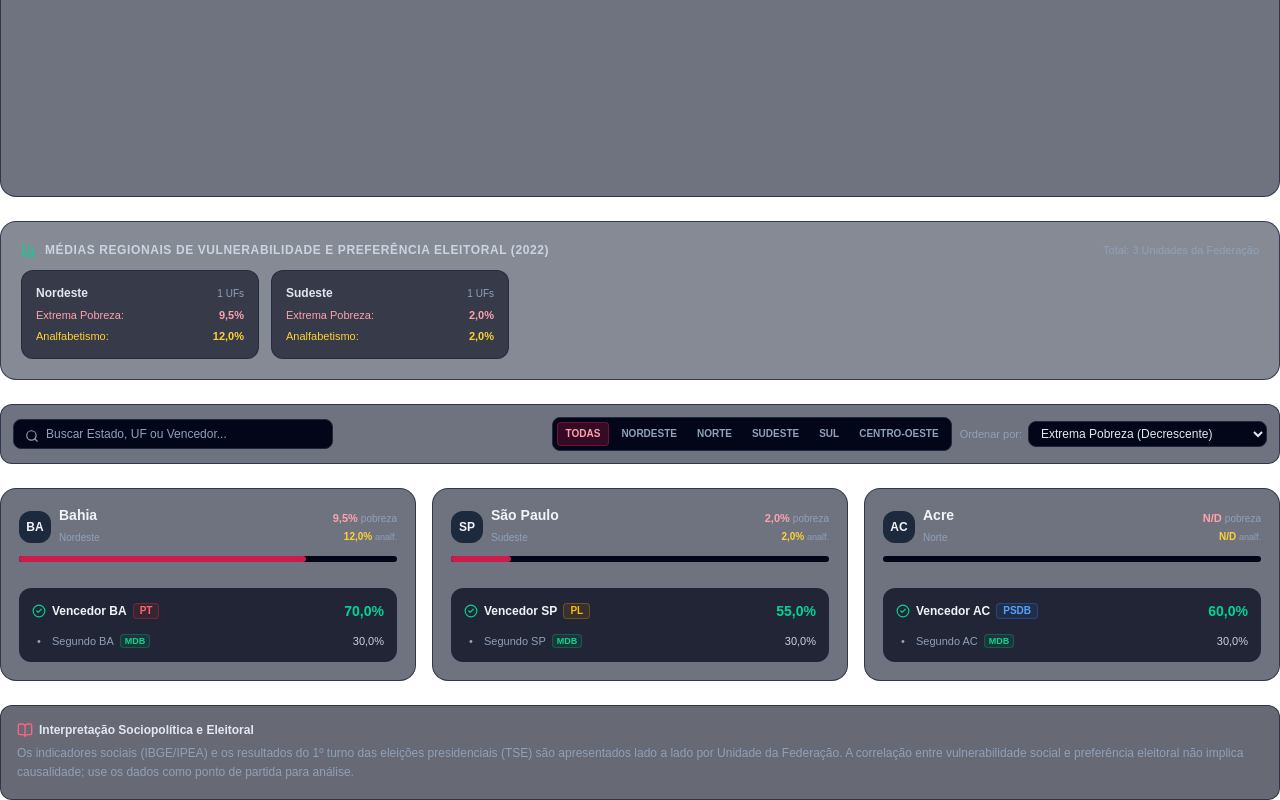
DeepBrazilPanel › filtra por região (botão e card regional) e por texto
This screenshot has width=1280, height=800.
(page scrolled)
Expected: the heading "Bahia" is shown, x1=59 y1=507 x2=100 y2=524
Click the button "SUDESTE" at (776, 434), box x1=744 y1=423 x2=807 y2=445
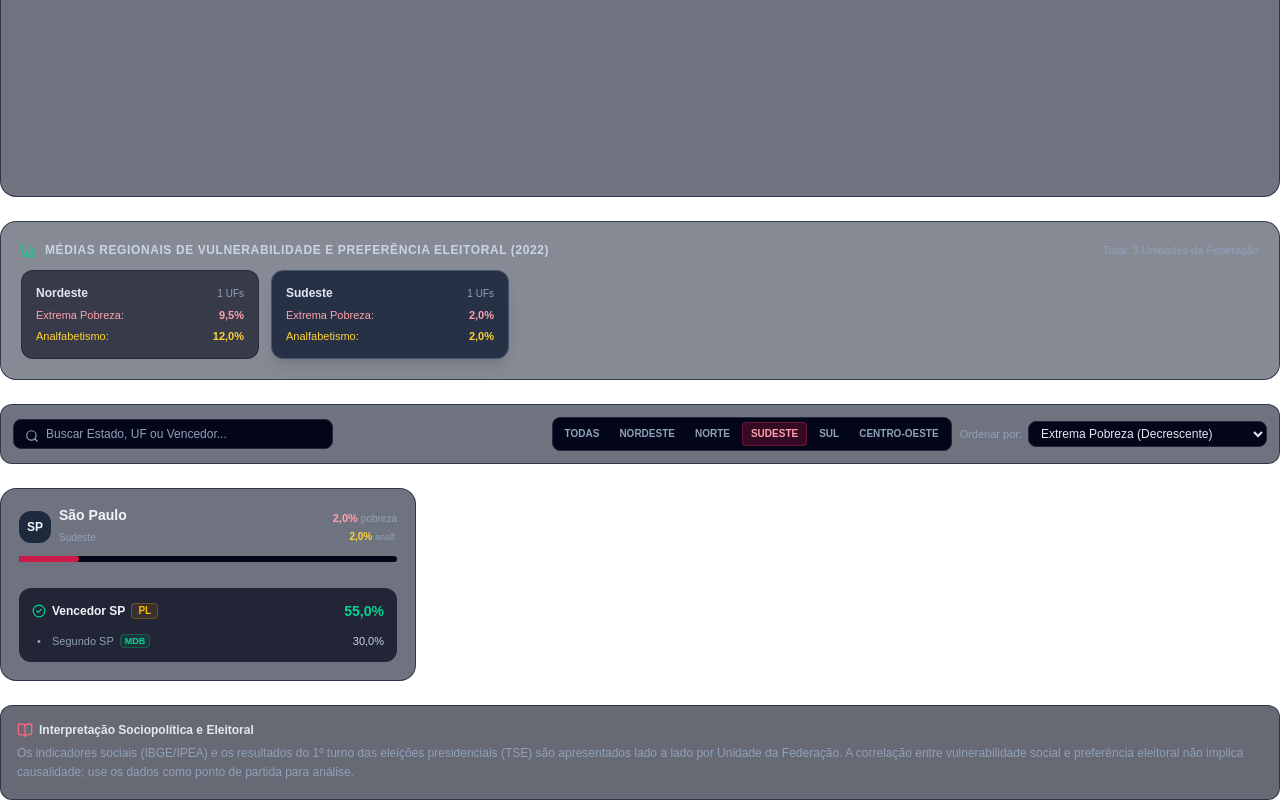
Expected: the button "SUDESTE" is pressed, x1=742 y1=422 x2=807 y2=446
Note: card regional alterna o filtro
Click the button "Nordeste 1 UFs Extrema Pobreza: 9,5% Analfabetismo: 12,0%" at (140, 315), box x1=21 y1=270 x2=259 y2=359
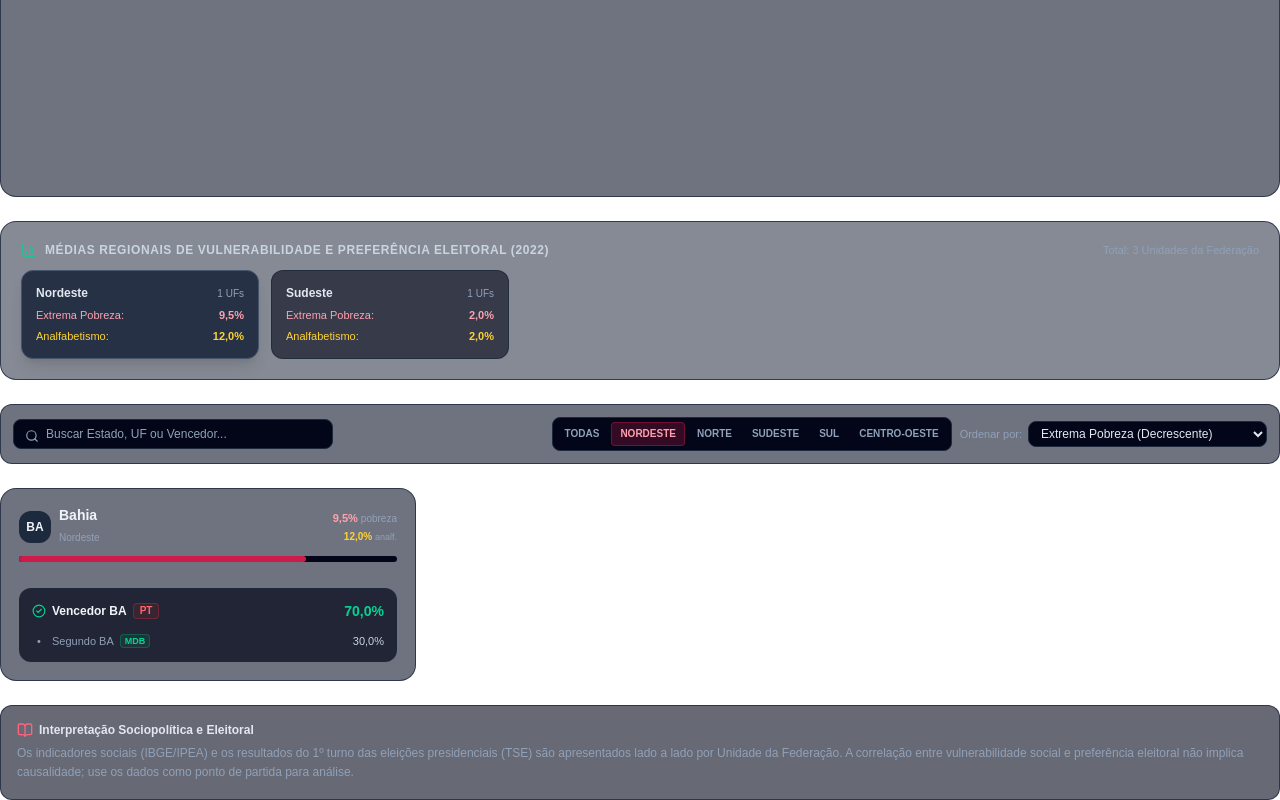
Click the button "Nordeste 1 UFs Extrema Pobreza: 9,5% Analfabetismo: 12,0%" at (140, 315), box x1=21 y1=270 x2=259 y2=359
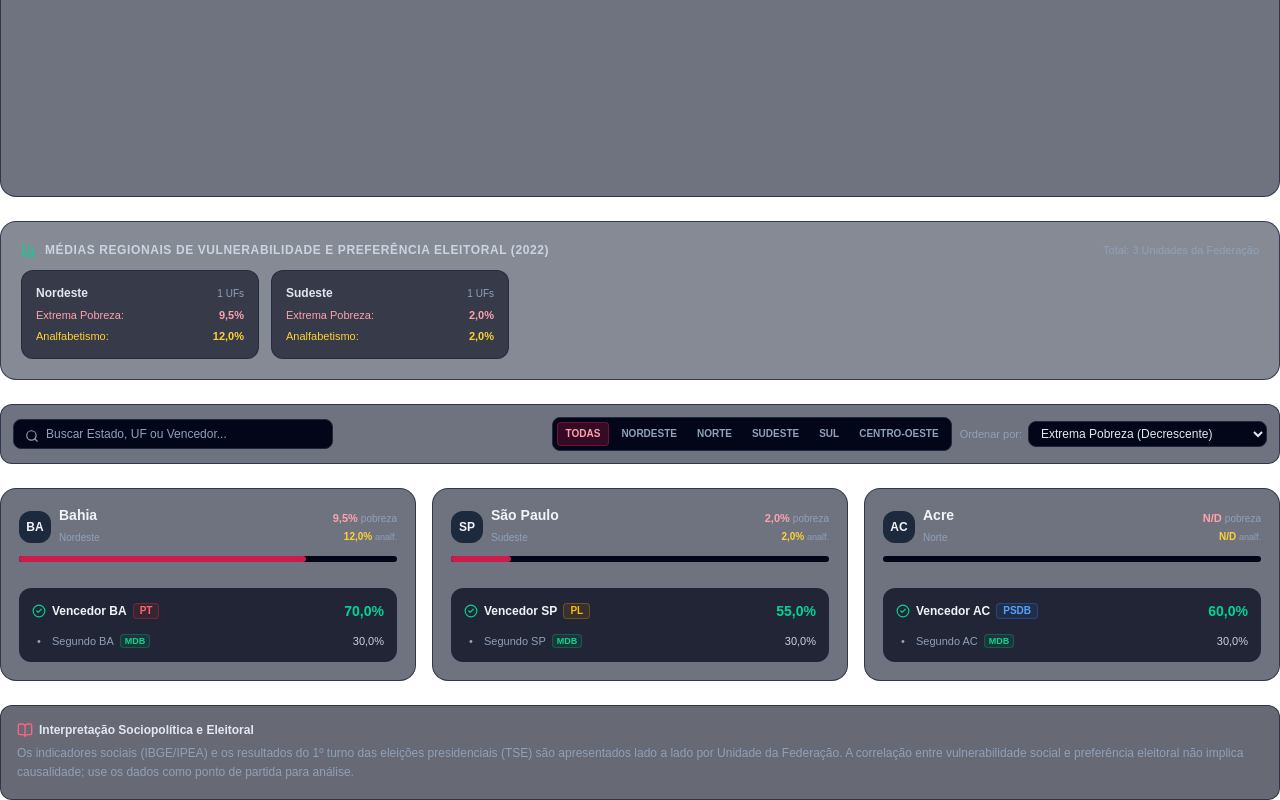
Type "vencedor ac" into the field labelled "Buscar Estado, UF ou Vencedor..." at (173, 434), box x1=13 y1=419 x2=333 y2=449
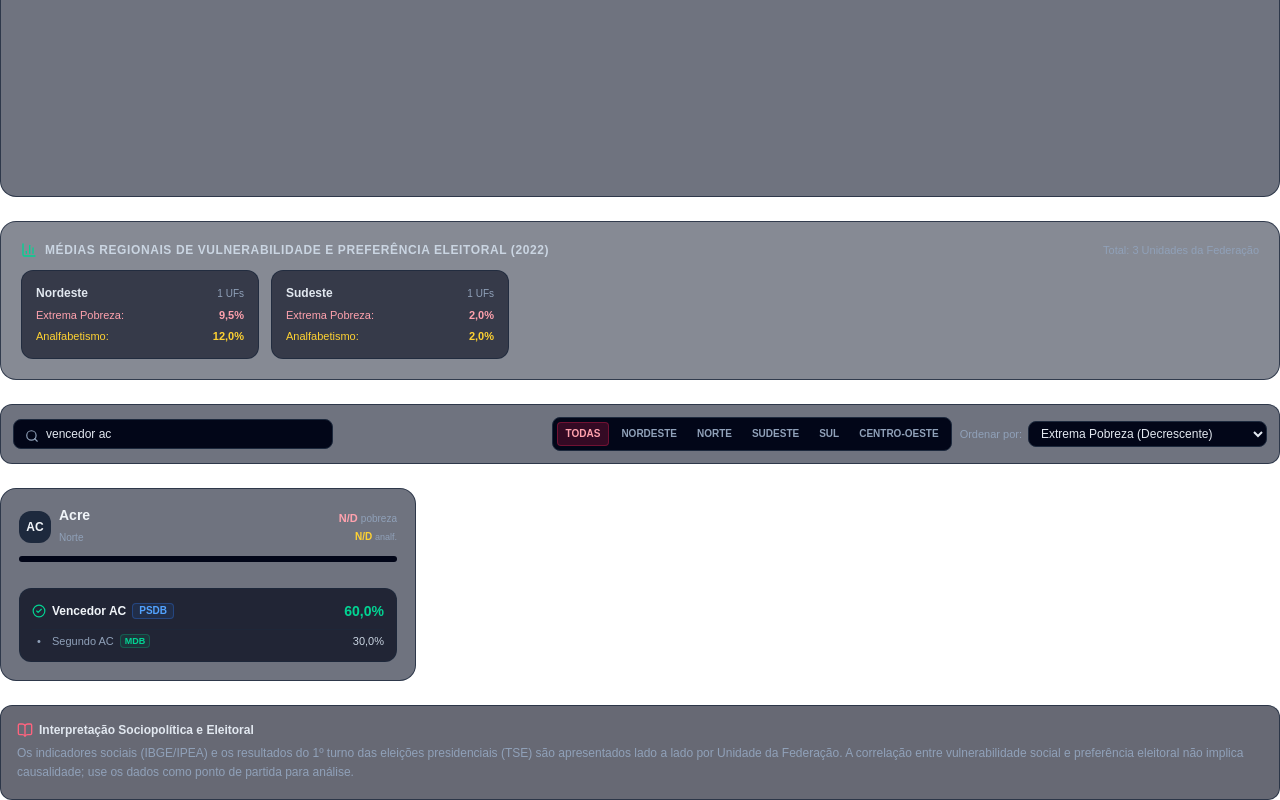
Replace the text in the field named "Buscar Estado" with "zzz" at (173, 434), box x1=13 y1=419 x2=333 y2=449
(page scrolled)
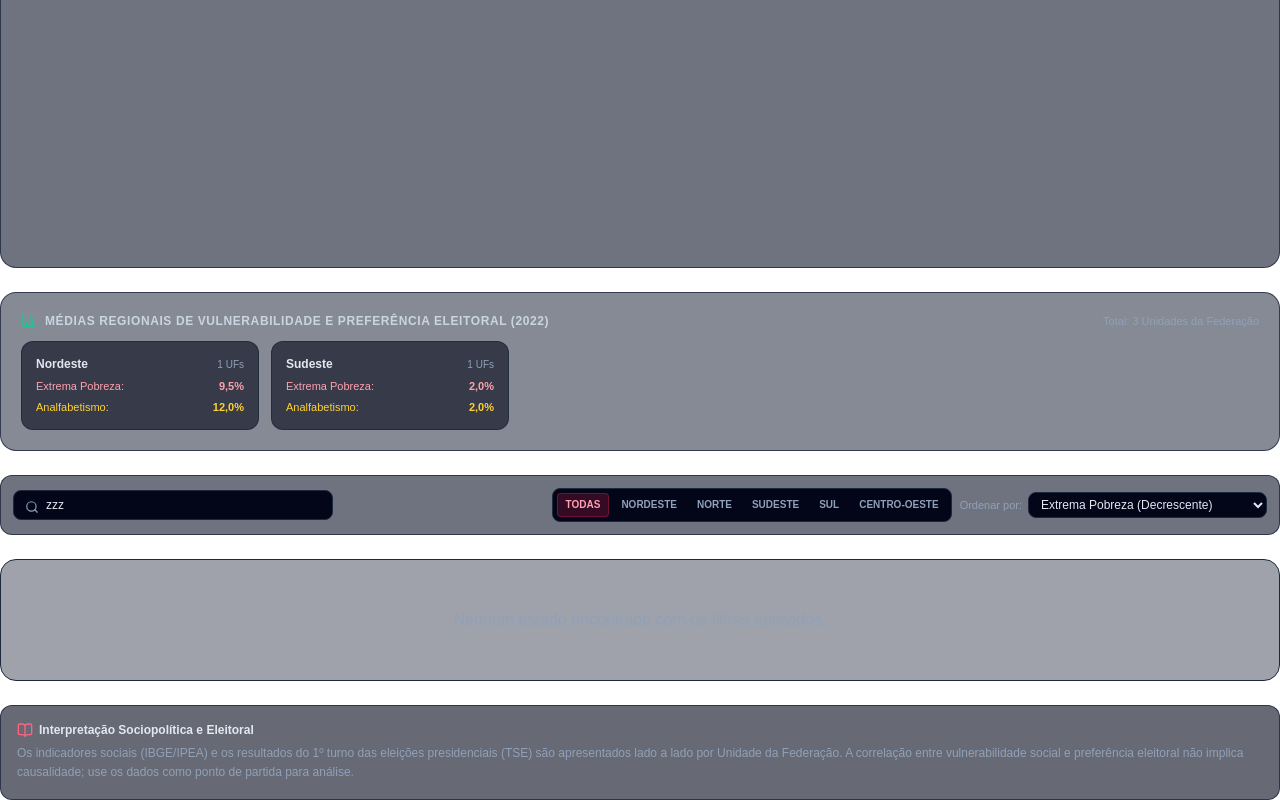
Expected: the text "Nenhum estado encontrado com os filtros aplicados." is shown, x1=0 y1=559 x2=1279 y2=681
